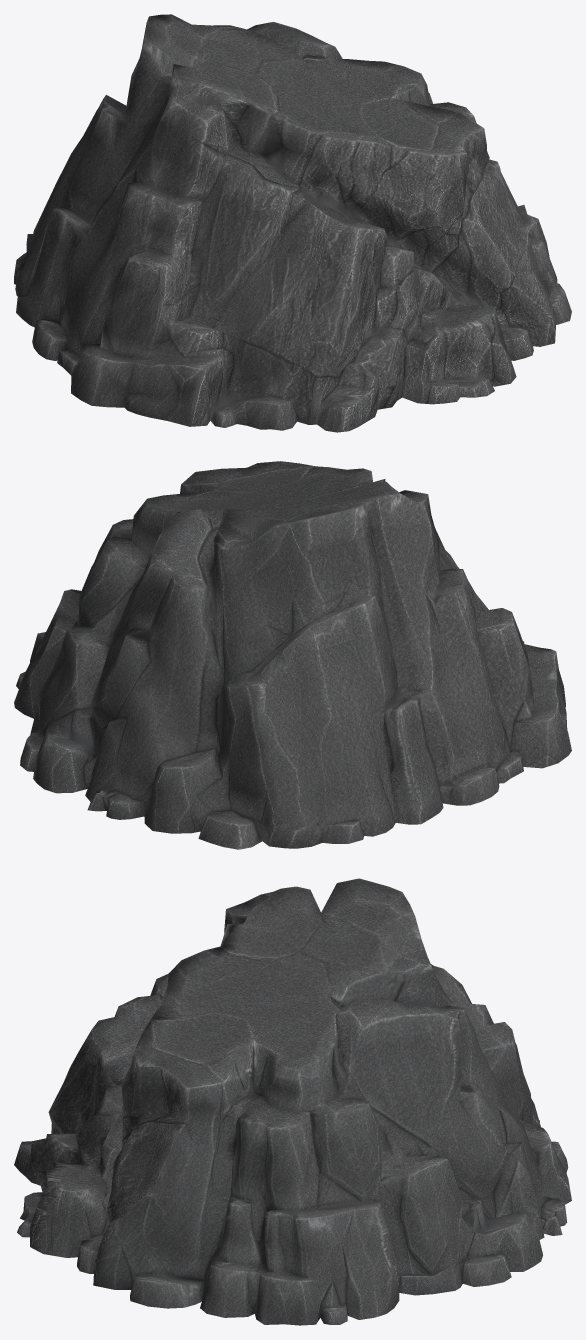
The model's file is rock_compact_mid_v1.glb.
3 views of the same model, one above another, from view 1: azimuth 30°, elevation 25°; view 2: azimuth 150°, elevation 25°; view 3: azimuth 270°, elevation 25° (orthographic).
Size of the model in its own units: 1 by 0.5328 by 0.9791.
1 material, 1 textured.
